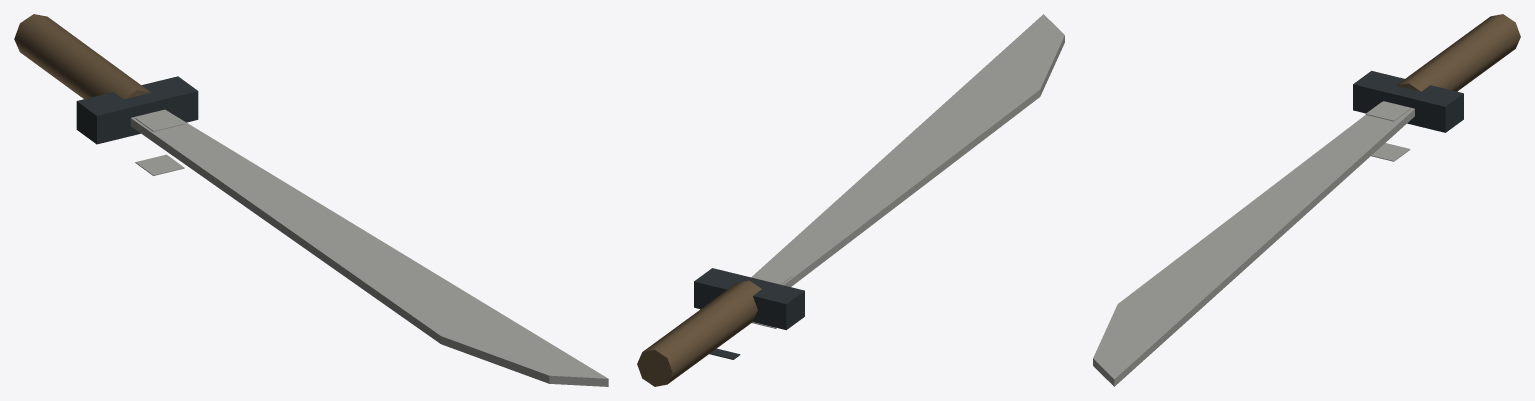
The picture shows the model from 3 angles, left to right: view 1: azimuth 30°, elevation 25°; view 2: azimuth 150°, elevation 25°; view 3: azimuth 330°, elevation 25°; orthographic projection. The views are drawn at different scales.
Visible parts, largest first — view 1: weapon-katana-painted; view 2: weapon-katana-painted; view 3: weapon-katana-painted.
Boxes of the visible parts, x1,y1,x2,y2 form: weapon-katana-painted: (14,14,608,386); weapon-katana-painted: (637,14,1064,386); weapon-katana-painted: (1093,14,1520,386).
Size of the model in its own units: 0.8345 by 0.3781 by 5.79.
